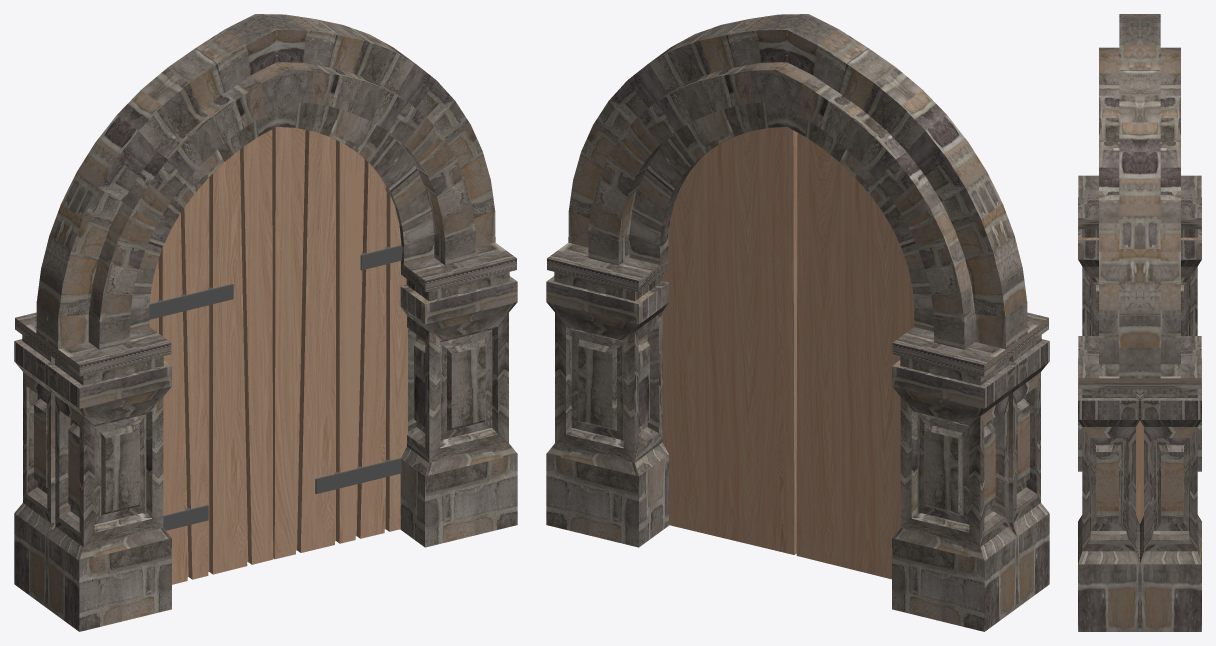
File: door.glb
The picture shows the model from 3 angles, left to right: view 1: azimuth 30°, elevation 25°; view 2: azimuth 150°, elevation 25°; view 3: azimuth 270°, elevation 25°; orthographic projection. The views are drawn at different scales.
Parts seen in each view (by area): view 1: Plane.001, Plane.011; view 2: Plane.001; view 3: Plane.001.
Boxes of the visible parts, box(x1,y1,x2,y2) form: Plane.001: box(14, 14, 517, 631); Plane.011: box(163, 505, 208, 530); Plane.001: box(546, 14, 1049, 631); Plane.001: box(1078, 14, 1201, 631).
Size of the model in its own units: 4.82 by 5.59 by 1.24.
3 materials, 2 textured.
